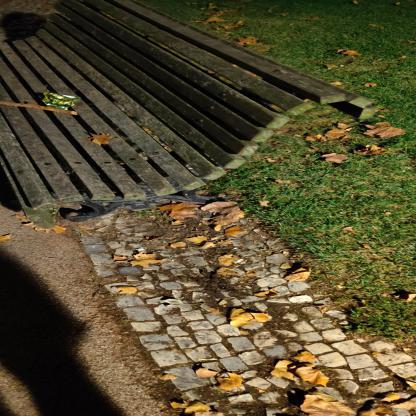plastik: (43, 93, 83, 111)
